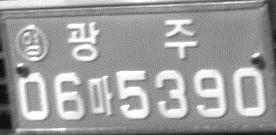0: (231, 65, 266, 117), (17, 72, 50, 122)
3: (154, 70, 189, 121)
5: (115, 70, 150, 119)
6: (52, 71, 85, 122)
9: (192, 68, 227, 119)
광주_D: (65, 18, 198, 62)
마: (87, 75, 114, 117)
영: (14, 24, 49, 62)
